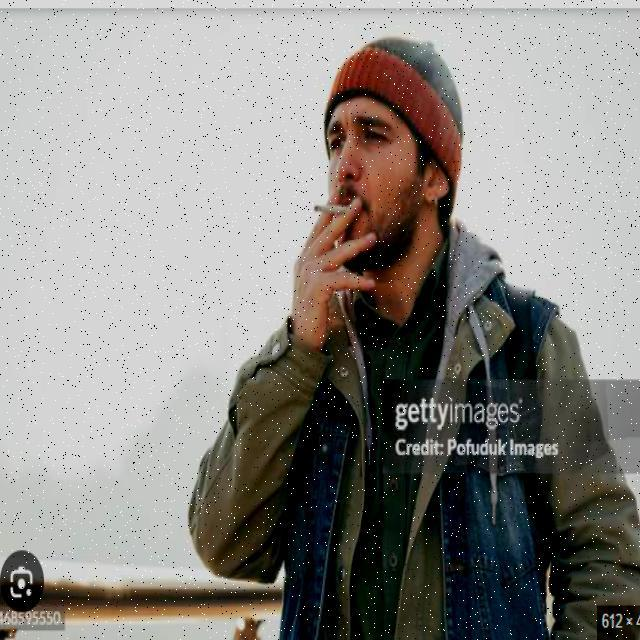face_no_mask: (325, 98, 453, 240)
